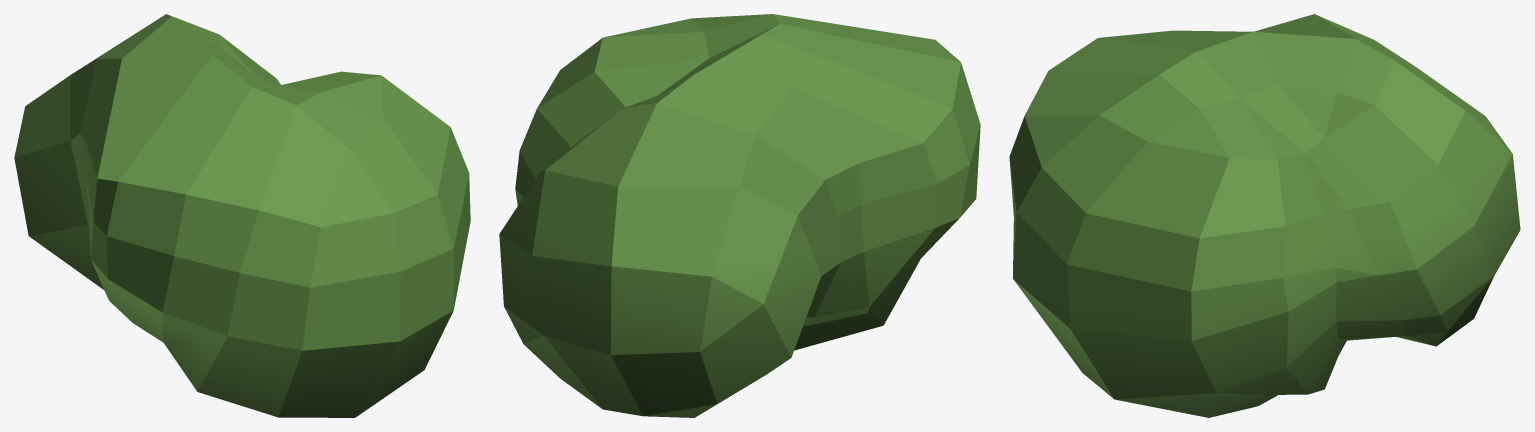
File: Oak-Bush-01.fbx
The picture shows the model from 3 angles, left to right: view 1: azimuth 30°, elevation 25°; view 2: azimuth 150°, elevation 25°; view 3: azimuth 270°, elevation 25°; orthographic projection. The views are drawn at different scales.
Parts seen in each view (by area): view 1: Oak-Bush-01; view 2: Oak-Bush-01; view 3: Oak-Bush-01.
Boxes of the visible parts, bbox=[...] form: Oak-Bush-01: bbox=[14, 14, 470, 417]; Oak-Bush-01: bbox=[499, 14, 980, 417]; Oak-Bush-01: bbox=[1009, 14, 1520, 417].
Bounding box in the file's own units: 635 × 546 × 751.
Materials: 1 (1 with a texture image).
